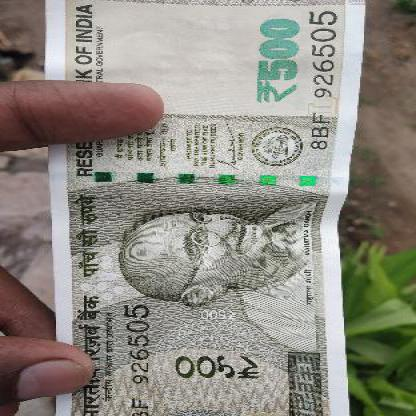New500Front: (46, 3, 348, 415)
